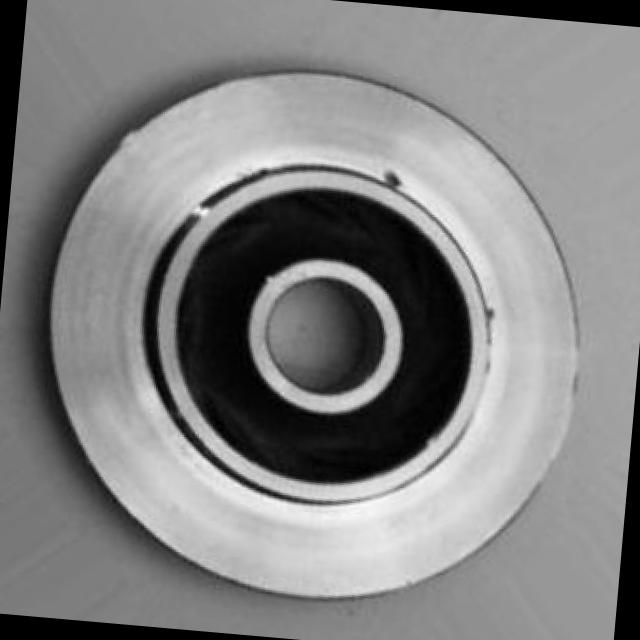Defect: (379, 161, 406, 193)
